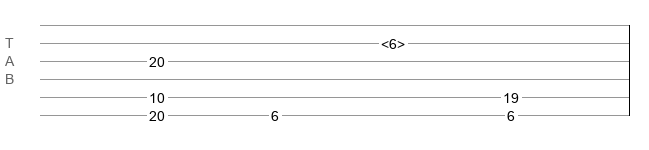10: (149, 90, 165, 100)
19: (503, 90, 519, 100)
20: (149, 54, 165, 64), (149, 108, 165, 118)
6: (271, 108, 279, 118), (507, 108, 515, 118)
harmonic: (381, 36, 405, 46)
